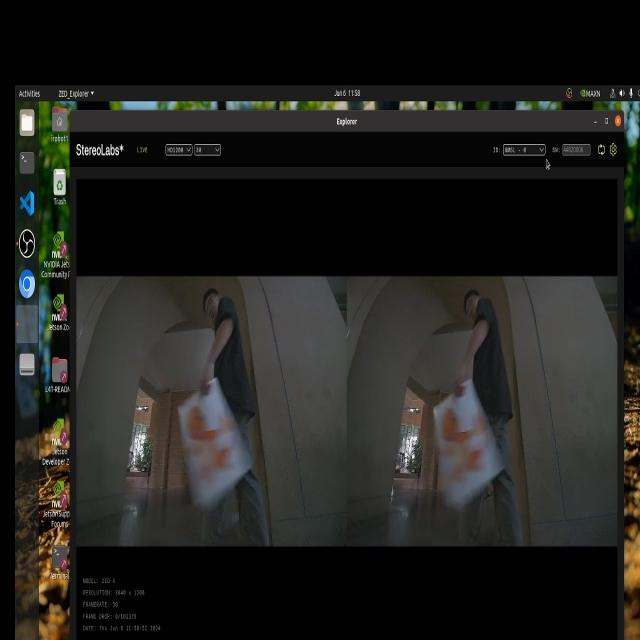red: (180, 393, 246, 482), (440, 398, 492, 486)
